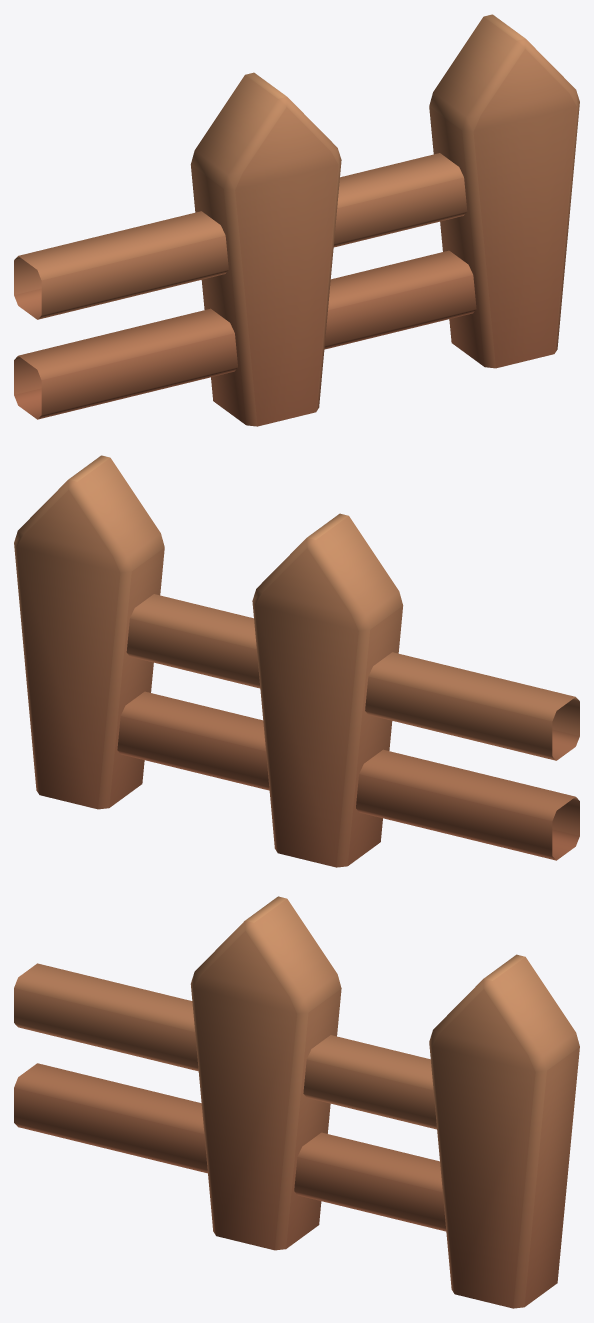
File: fence_open_long.fbx
The picture shows the model from 3 angles, top to bottom: view 1: azimuth 30°, elevation 25°; view 2: azimuth 150°, elevation 25°; view 3: azimuth 330°, elevation 25°; orthographic projection.
Parts seen in each view (by area): view 1: fence_open_long; view 2: fence_open_long; view 3: fence_open_long.
Part boxes in pixels (x1,y1,x2,y2): fence_open_long: [14, 14, 579, 426]; fence_open_long: [14, 455, 579, 867]; fence_open_long: [14, 896, 579, 1308].
Size of the model in its own units: 225 by 128 by 30.
